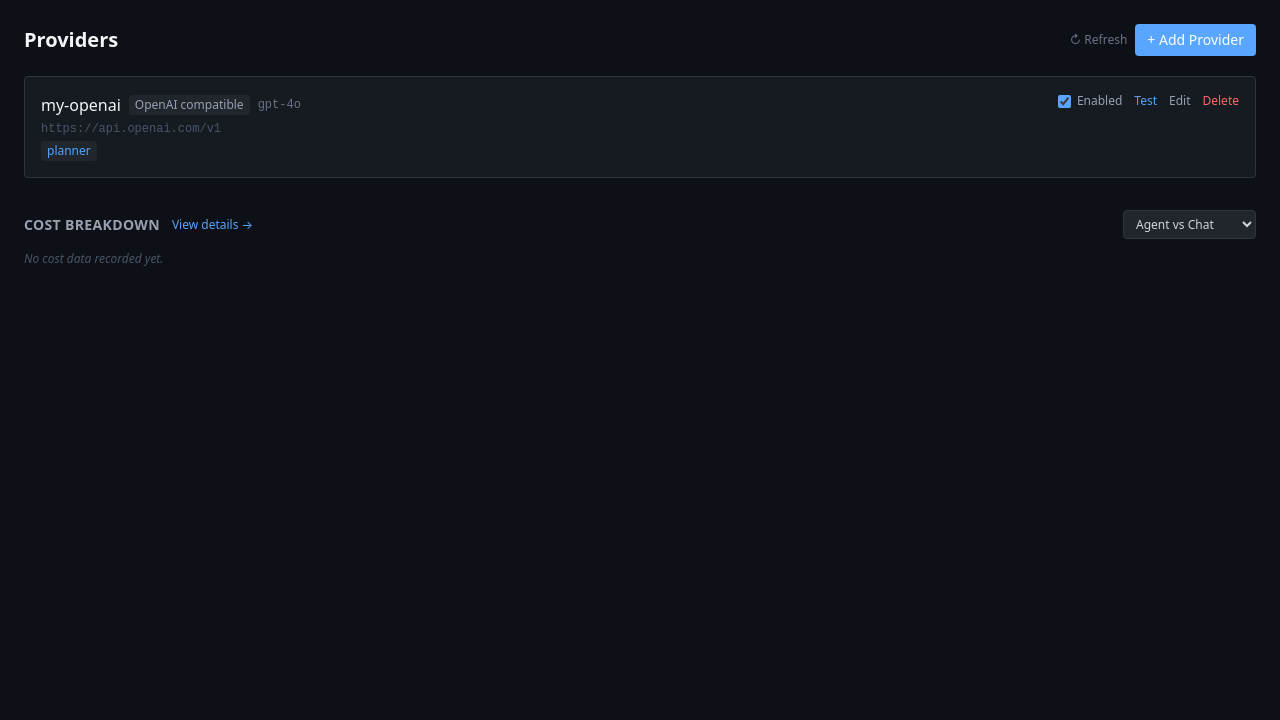
Scenario: Providers — roles multi-select › shows no-roles guidance when listRoles returns empty
Click the button "+ Add Provider" at x=1196, y=40, box [1135, 24, 1256, 56]
(page scrolled)
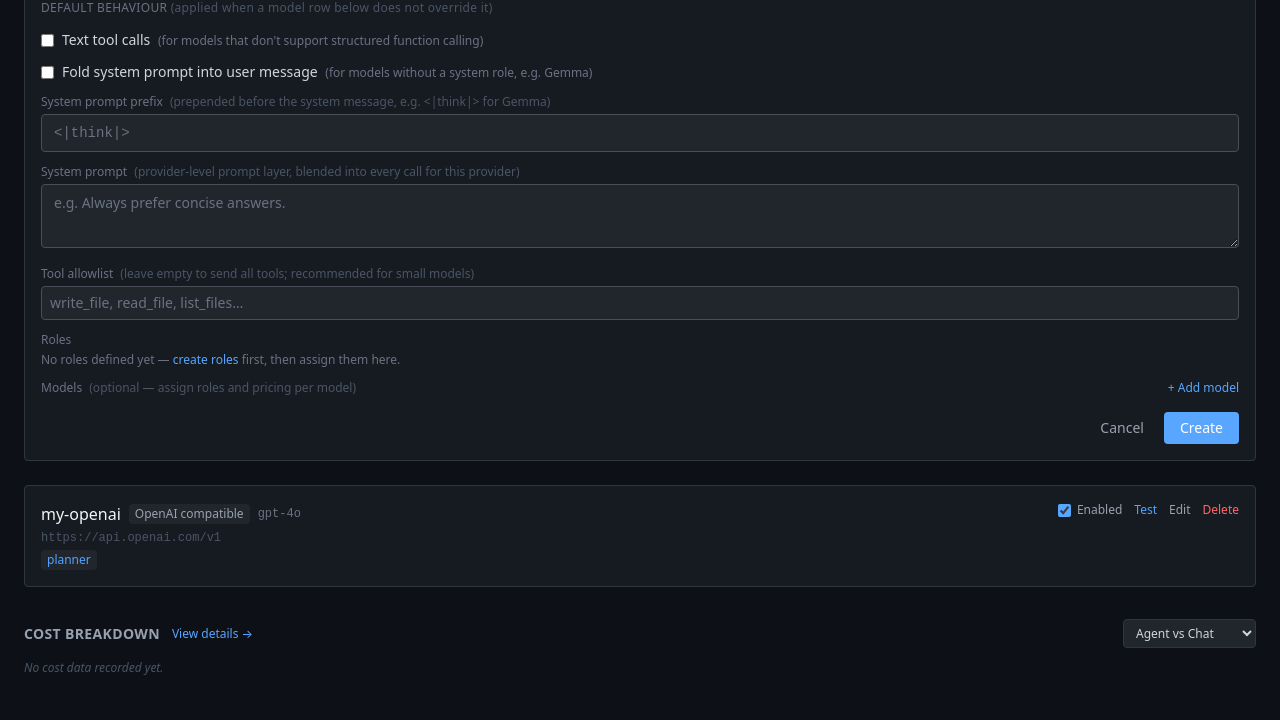
Result: the text "No roles defined yet" is shown at [41, 351, 173, 368]
